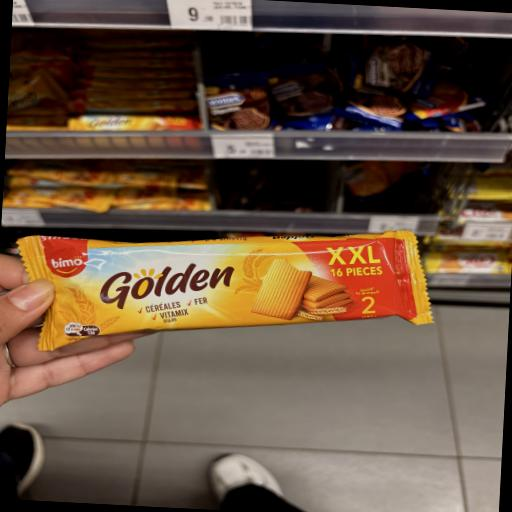golden: (0, 202, 487, 398)
